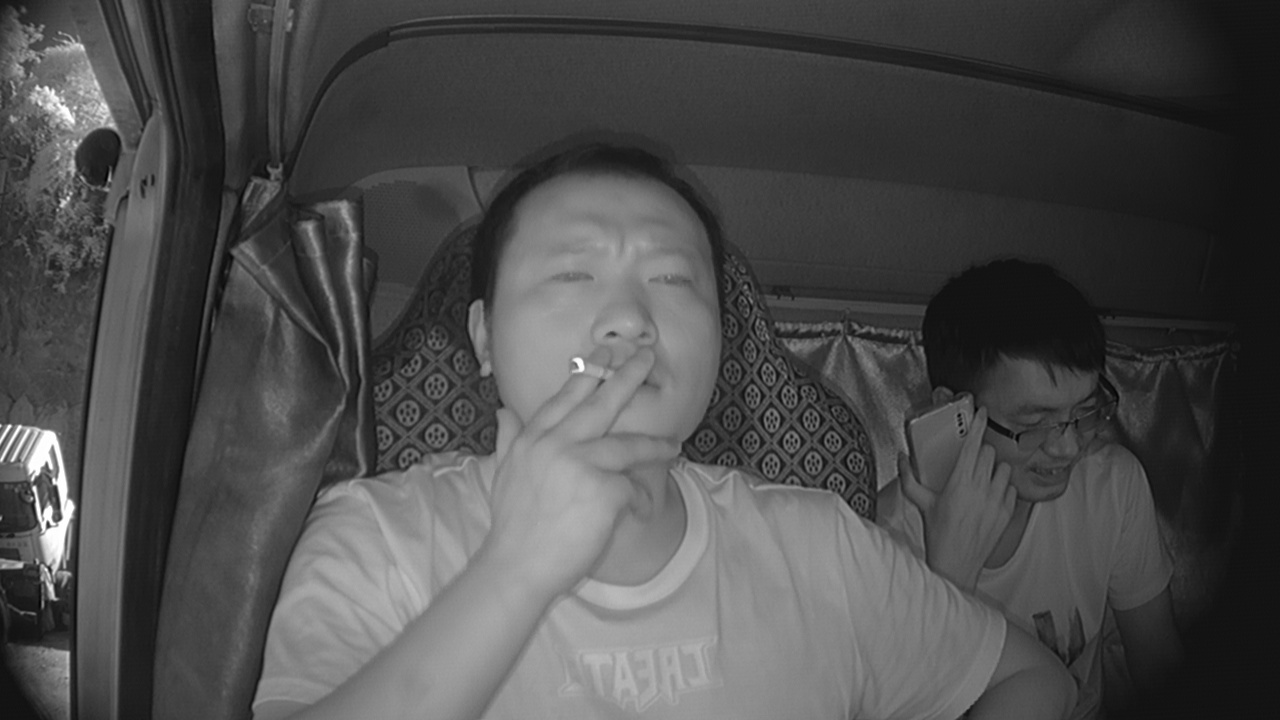hand: (529, 342, 679, 518)
